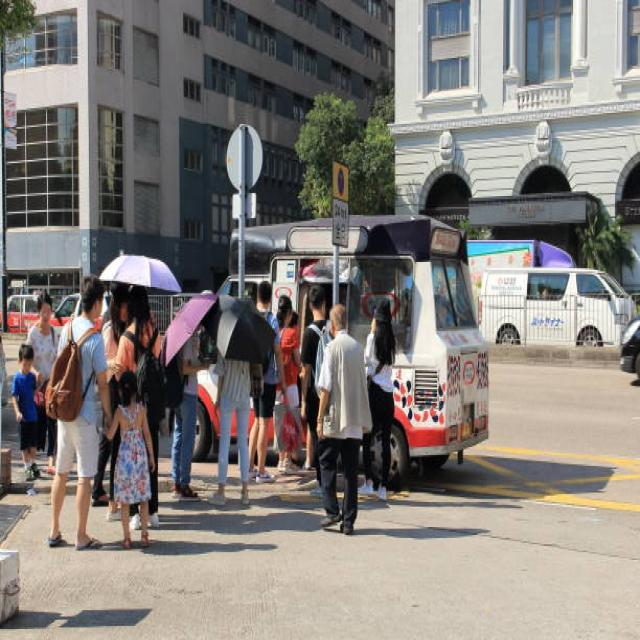Emperan: (175, 201, 503, 487)
